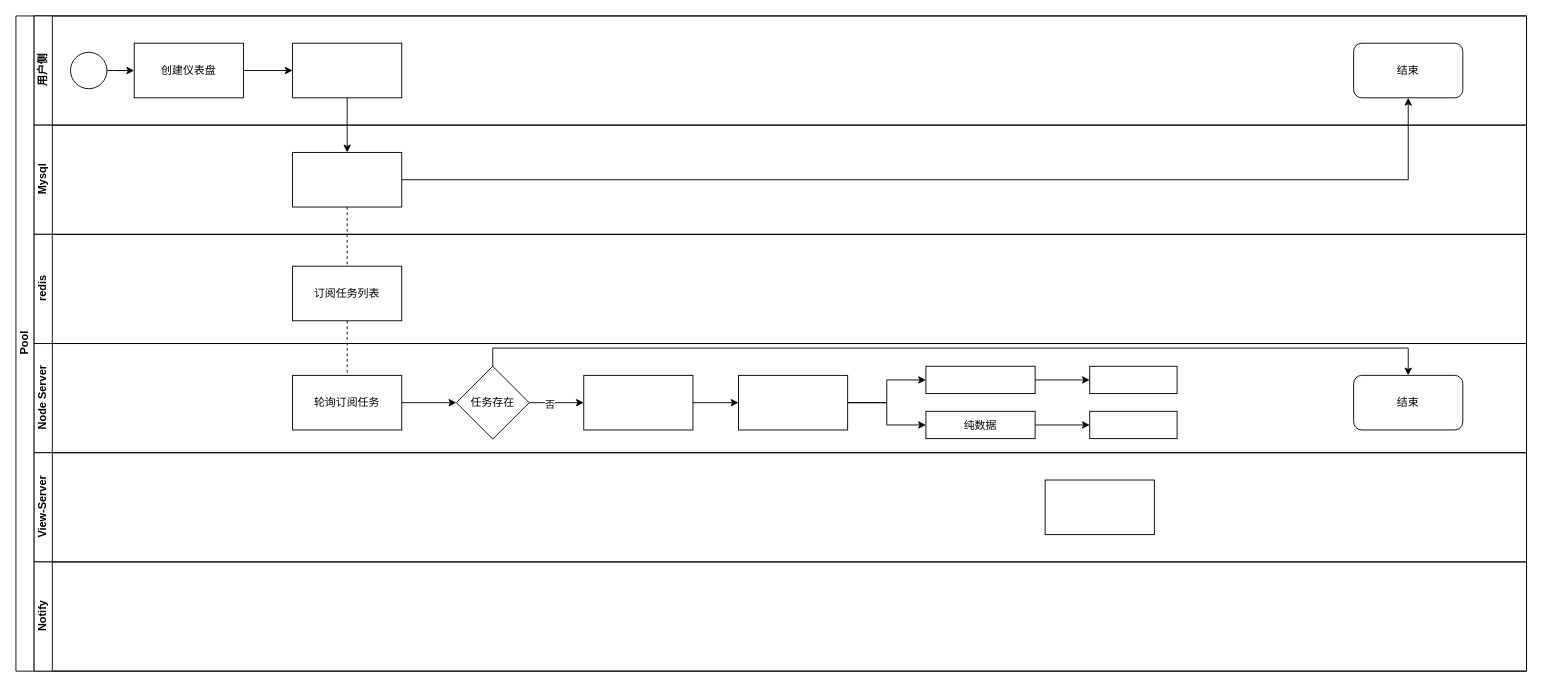
Some shapes in this 1542 by 687 pixel diagram are drawn without their labels. The centre of each missing label's shape, as x and y in pixels:
data-render: (1133,424)
puppeteer-core: (1133,379)
存储订阅: (347,179)
截图: (980,379)
执行定时任务: (793,402)
添加定时任务: (638,402)
订阅: (347,70)
